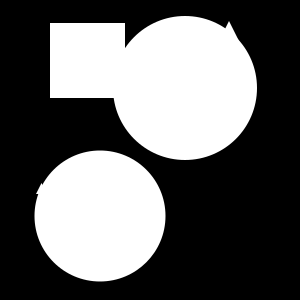circle: (50, 23, 125, 98)
rectangle: (113, 16, 257, 160), (34, 150, 166, 282)
triangle: (211, 21, 247, 57), (36, 183, 47, 194)
